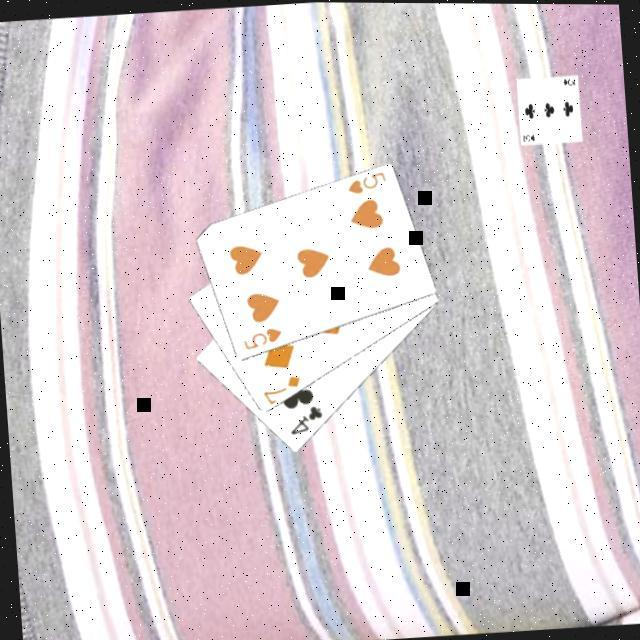4C: (286, 399, 326, 436)
5H: (238, 322, 286, 351), (343, 167, 391, 196)
7D: (259, 370, 305, 406)
